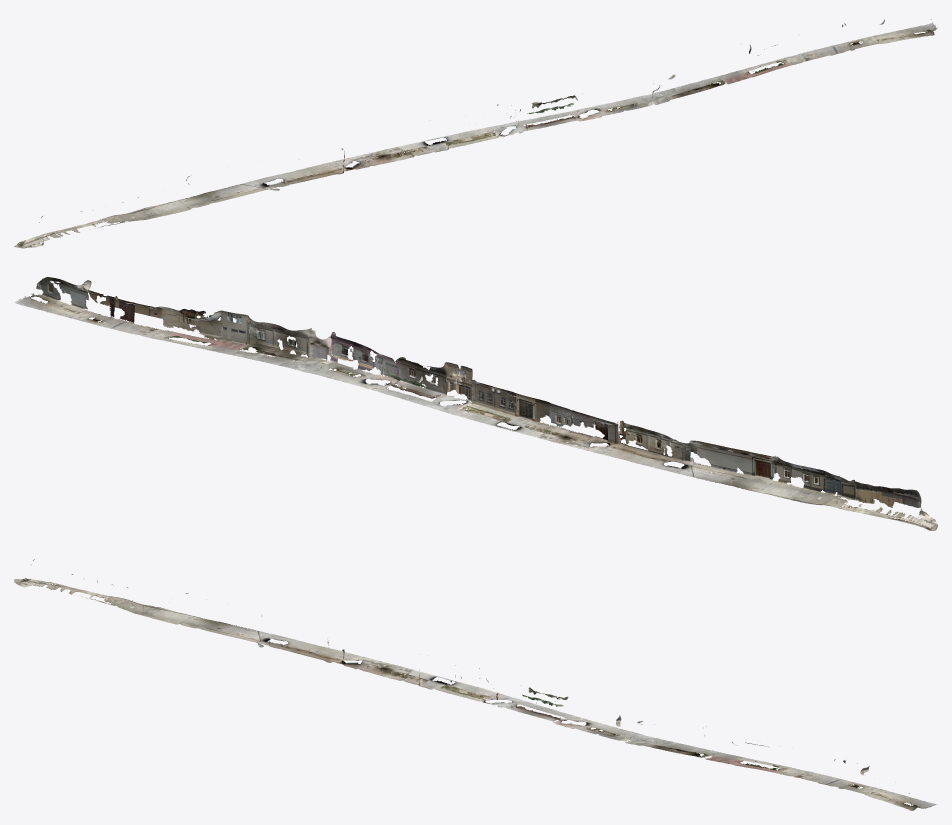
The model's file is angren-1.glb.
3 renders of one model, top to bottom at view 1: azimuth 30°, elevation 25°; view 2: azimuth 150°, elevation 25°; view 3: azimuth 330°, elevation 25°, orthographic.
Bounding box in the file's own units: 179 × 6.99 × 10.56.
12 materials, 12 textured.
